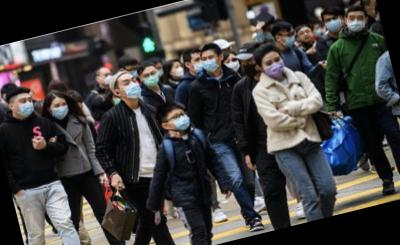with_mask: (120, 74, 144, 102), (262, 55, 287, 80), (169, 109, 193, 134), (15, 95, 37, 120), (345, 12, 368, 35), (48, 100, 72, 122), (200, 52, 221, 75), (141, 68, 161, 90), (239, 57, 258, 79), (324, 15, 343, 34), (282, 29, 300, 49), (224, 56, 242, 75), (189, 56, 205, 75), (128, 64, 143, 81), (171, 63, 186, 80), (100, 71, 114, 87), (264, 27, 275, 42), (312, 24, 323, 37), (156, 63, 165, 78)
without_mask: (297, 27, 314, 45)
